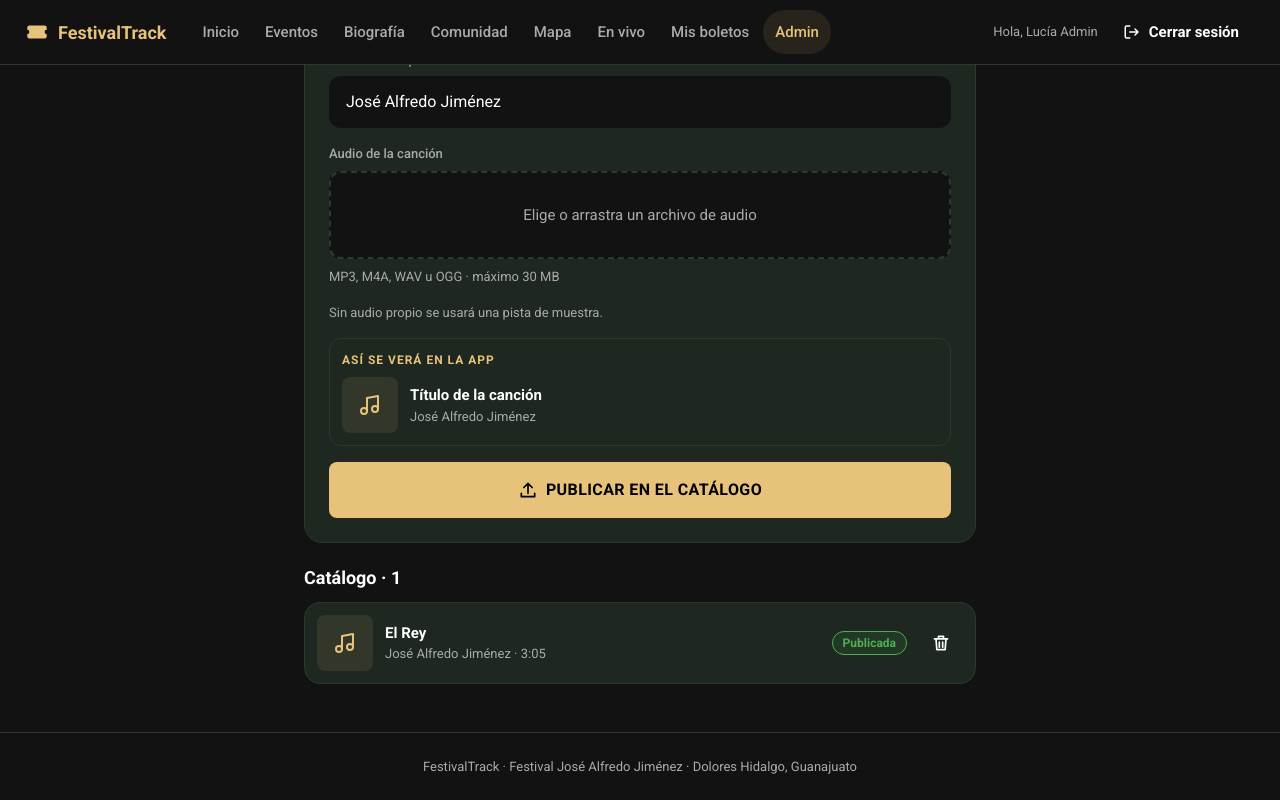
Scenario: canciones (/admin/canciones) › traduce el 500 al eliminar una canción que está en un repertorio
(page scrolled)
What coordinates should you click on to do the following:
click the button named "Eliminar El Rey"
I would click on:
 (941, 642)
Its box is [919,620,963,664].
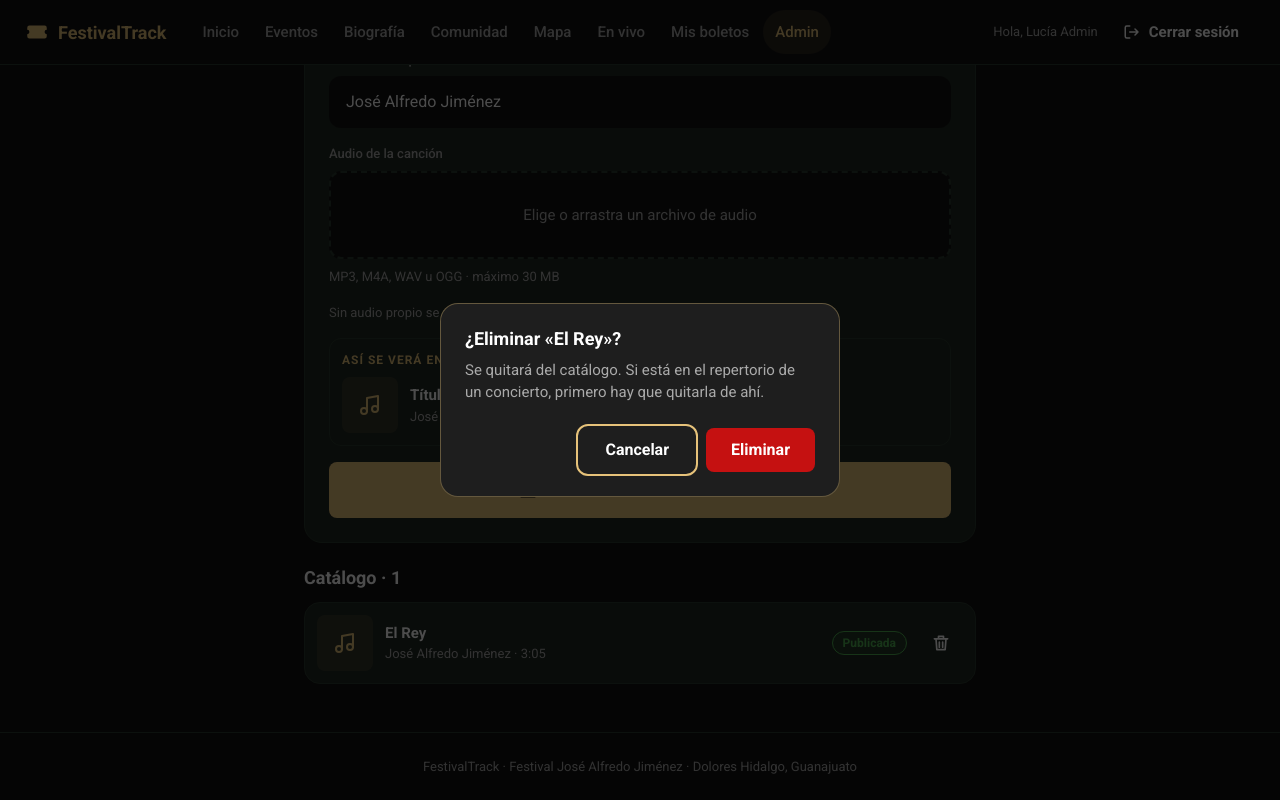
What coordinates should you click on to do the following:
click the button "Eliminar"
I would click on:
 (760, 450)
Its box is [706,428,815,472].
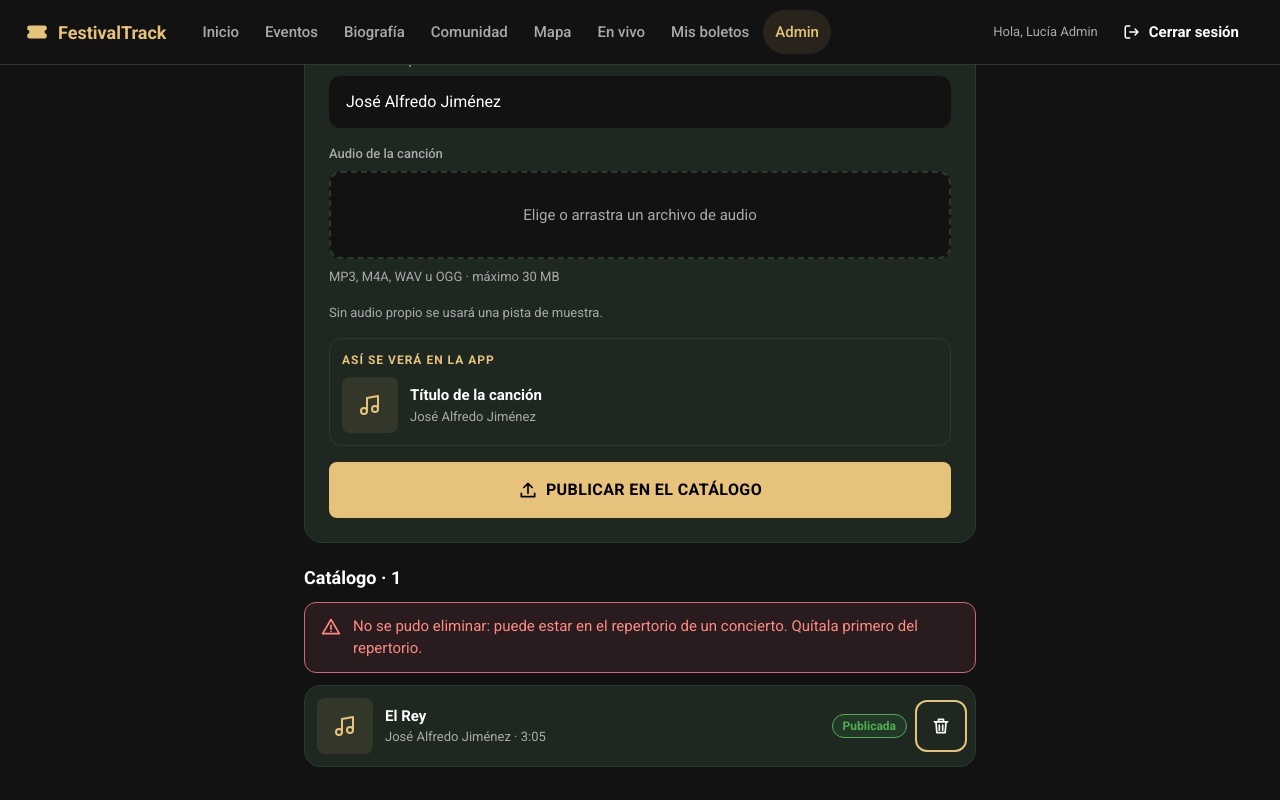
Expected: the button named "Eliminar El Rey" is shown, [919,704,963,748]
Expected: the text "No se pudo eliminar: puede estar en el repertorio de un concierto. Quítala primero del repertorio." is shown, [353,616,918,657]
